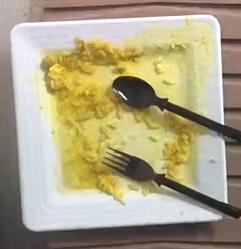rice: (39, 16, 224, 203)
